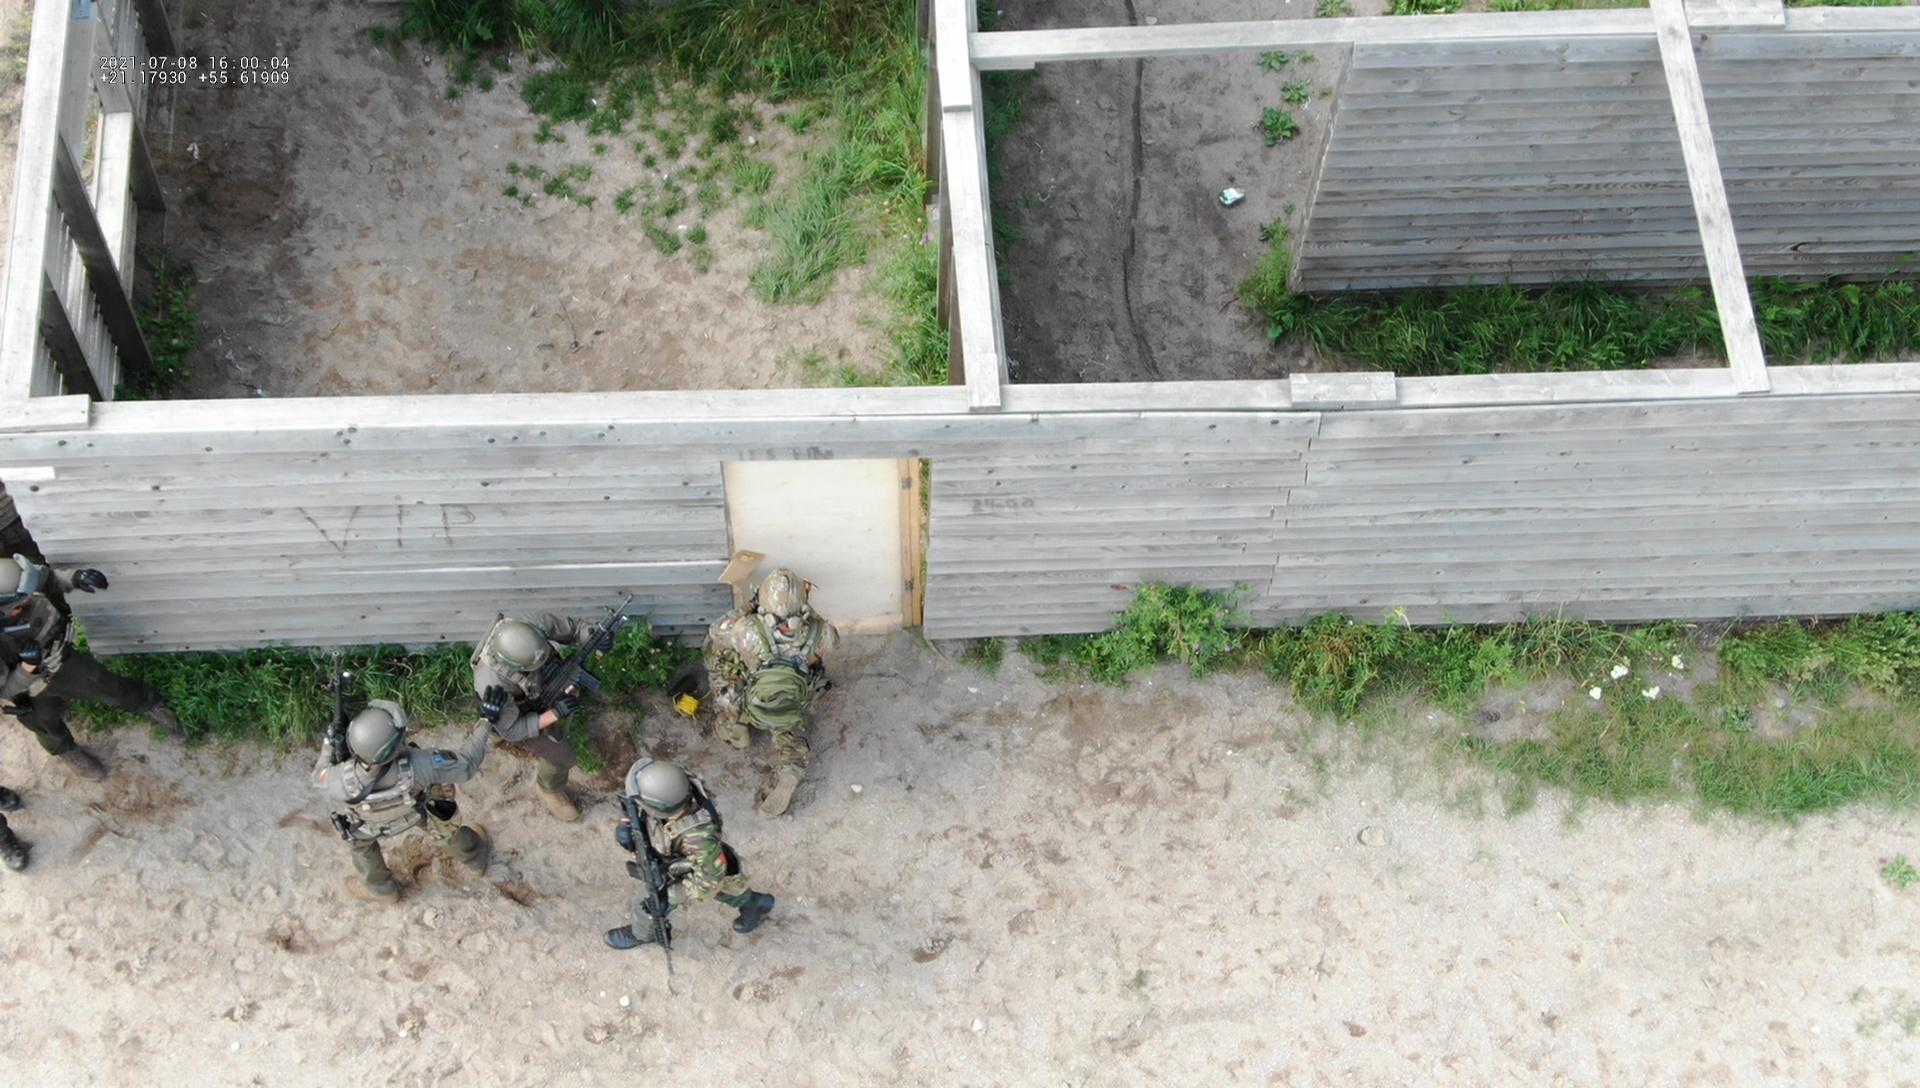Soldier: (307, 651, 542, 914), (576, 732, 804, 964), (676, 553, 869, 807), (479, 530, 637, 785), (0, 521, 138, 799)
